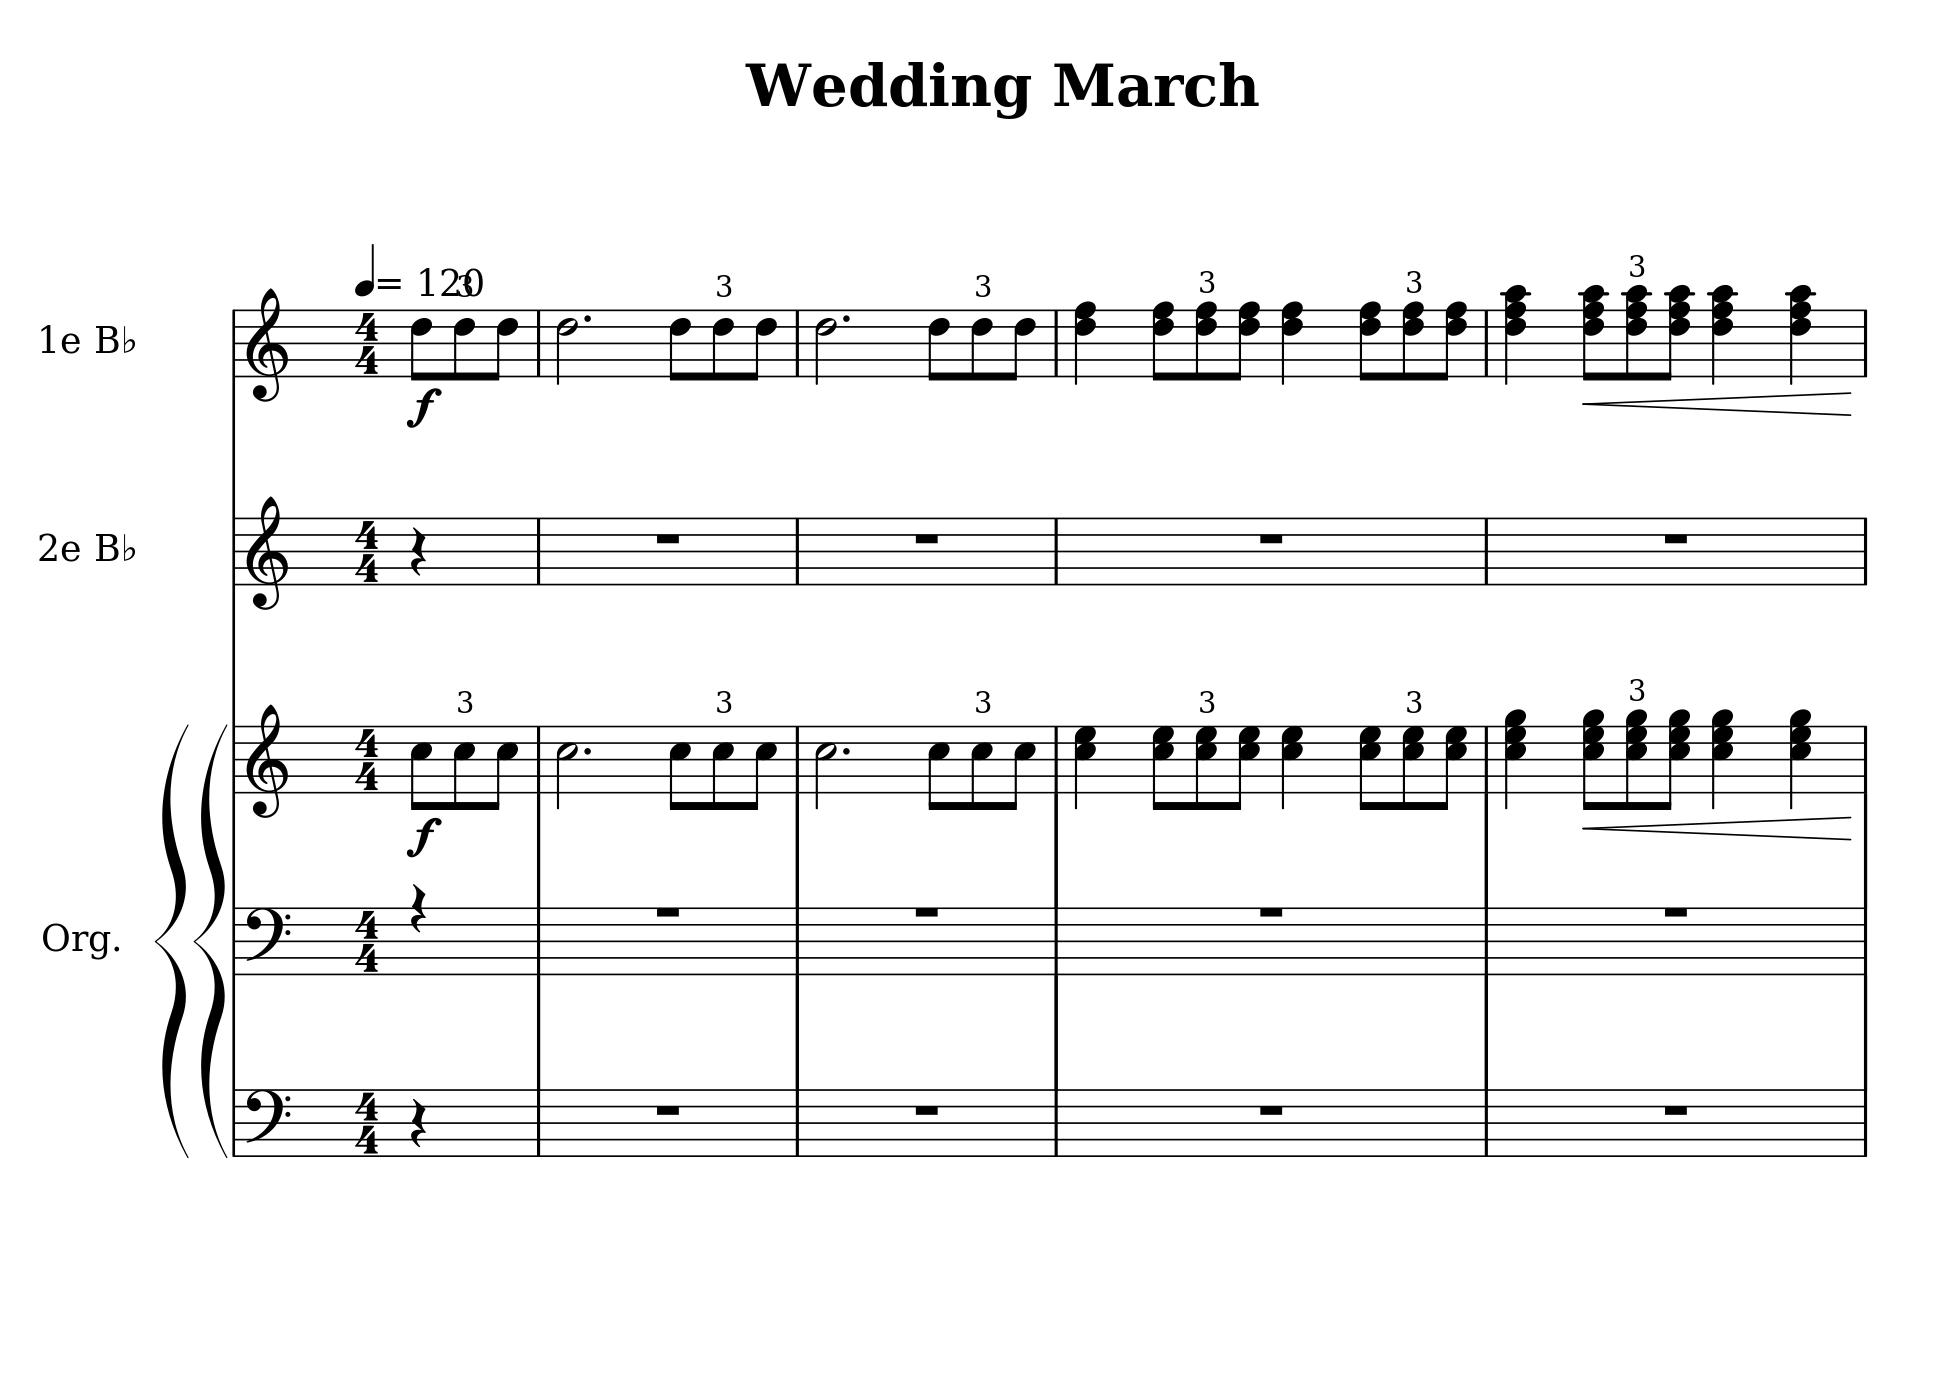0: (460, 265, 484, 297)
1: (418, 264, 435, 297)
2: (438, 265, 460, 297)
2_5: (811, 723, 837, 810), (553, 723, 577, 810)
2_6: (553, 307, 577, 385), (813, 307, 837, 385)
3: (1627, 250, 1647, 277), (714, 688, 733, 715), (973, 688, 993, 715), (1629, 675, 1647, 703), (1404, 268, 1423, 294), (715, 271, 733, 298), (973, 271, 991, 298), (456, 688, 474, 715), (1198, 268, 1216, 294), (1198, 688, 1215, 715), (1405, 688, 1422, 714)
4: (351, 1122, 382, 1155), (352, 516, 382, 550), (352, 906, 382, 940), (352, 940, 382, 975), (352, 1087, 382, 1122), (352, 550, 382, 583), (352, 342, 381, 376), (352, 724, 381, 757), (352, 757, 379, 792), (352, 309, 379, 342)
4_5_7: (1074, 724, 1098, 811), (1281, 724, 1305, 810)
4_6_8: (1074, 298, 1099, 385), (1279, 300, 1305, 385)
4_th: (1500, 283, 1530, 384), (1708, 282, 1737, 385), (1786, 282, 1815, 384), (1501, 706, 1528, 811), (1786, 705, 1813, 807), (1710, 705, 1735, 811)
8_5: (745, 723, 777, 811), (1005, 723, 1036, 811), (487, 723, 517, 811), (408, 723, 433, 811), (967, 723, 993, 811), (451, 723, 475, 811), (667, 723, 691, 811), (709, 723, 733, 811), (925, 723, 949, 811)
8_5_7: (1230, 724, 1261, 811), (1438, 724, 1470, 811), (1152, 724, 1177, 811), (1195, 724, 1221, 811), (1402, 724, 1428, 811), (1359, 724, 1384, 811)
8_6: (486, 306, 520, 382), (1005, 306, 1038, 382), (745, 307, 778, 382), (967, 307, 994, 382), (925, 306, 951, 384), (408, 307, 433, 382), (666, 307, 691, 382), (709, 307, 735, 382), (450, 307, 475, 381)
8_6_8: (1435, 300, 1468, 382), (1228, 300, 1261, 382), (1194, 298, 1219, 382), (1357, 298, 1383, 382), (1401, 298, 1425, 382), (1152, 300, 1176, 382)
8_th: (1660, 283, 1695, 382), (1662, 705, 1692, 810), (1581, 706, 1608, 811), (1579, 283, 1608, 382), (1623, 705, 1650, 808), (1623, 283, 1651, 379)
Brace: (154, 718, 193, 1164), (192, 717, 229, 1162)
Crescendo_hairpin: (1590, 814, 1854, 840)
Fclef: (241, 1086, 291, 1159), (241, 904, 291, 976)
Gclef: (244, 285, 291, 403), (244, 493, 291, 610), (244, 702, 289, 819)
Rests1: (1659, 528, 1692, 547), (1659, 901, 1692, 921), (1255, 901, 1287, 921), (910, 529, 942, 547), (1255, 529, 1287, 547), (652, 901, 684, 919), (910, 901, 942, 919), (652, 1099, 684, 1117), (910, 1099, 942, 1117), (1660, 1099, 1692, 1117), (1257, 1099, 1287, 1117), (652, 529, 682, 546)
Rests4: (406, 1095, 429, 1149), (406, 523, 429, 576), (406, 880, 427, 934)
Single_barline: (1047, 907, 1068, 973), (1477, 517, 1497, 583), (1477, 907, 1497, 973), (787, 907, 807, 973), (1048, 724, 1066, 793), (1479, 724, 1497, 793), (1857, 517, 1875, 585), (529, 907, 547, 973), (529, 1089, 547, 1155), (226, 724, 243, 793), (1857, 724, 1873, 793), (1857, 907, 1873, 975), (789, 1089, 805, 1156), (1048, 1089, 1065, 1156), (1479, 309, 1495, 375), (790, 310, 807, 376), (1050, 310, 1066, 376), (529, 517, 546, 583), (1048, 517, 1065, 583), (531, 726, 547, 792), (790, 726, 807, 792), (1479, 1089, 1495, 1155), (1857, 1089, 1873, 1155), (226, 307, 241, 376), (1857, 309, 1872, 376), (226, 517, 241, 585), (790, 519, 805, 583), (531, 310, 546, 373), (228, 1089, 241, 1156), (228, 907, 241, 973)
Speed4: (354, 238, 403, 295)
TimeSig: (352, 307, 382, 375), (352, 516, 382, 583), (352, 724, 382, 790), (352, 906, 381, 975), (352, 1087, 381, 1156)
dot: (580, 310, 592, 324), (838, 312, 852, 324), (580, 744, 592, 757), (840, 744, 852, 757)
f: (403, 385, 442, 427), (405, 814, 441, 858)
